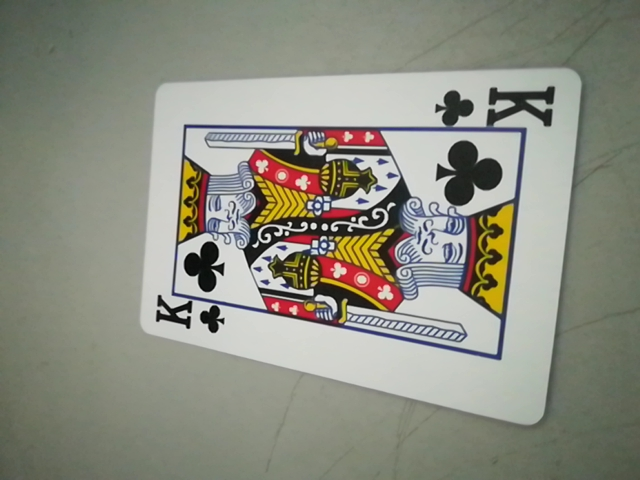mh k: (433, 82, 558, 131), (149, 293, 230, 337)
